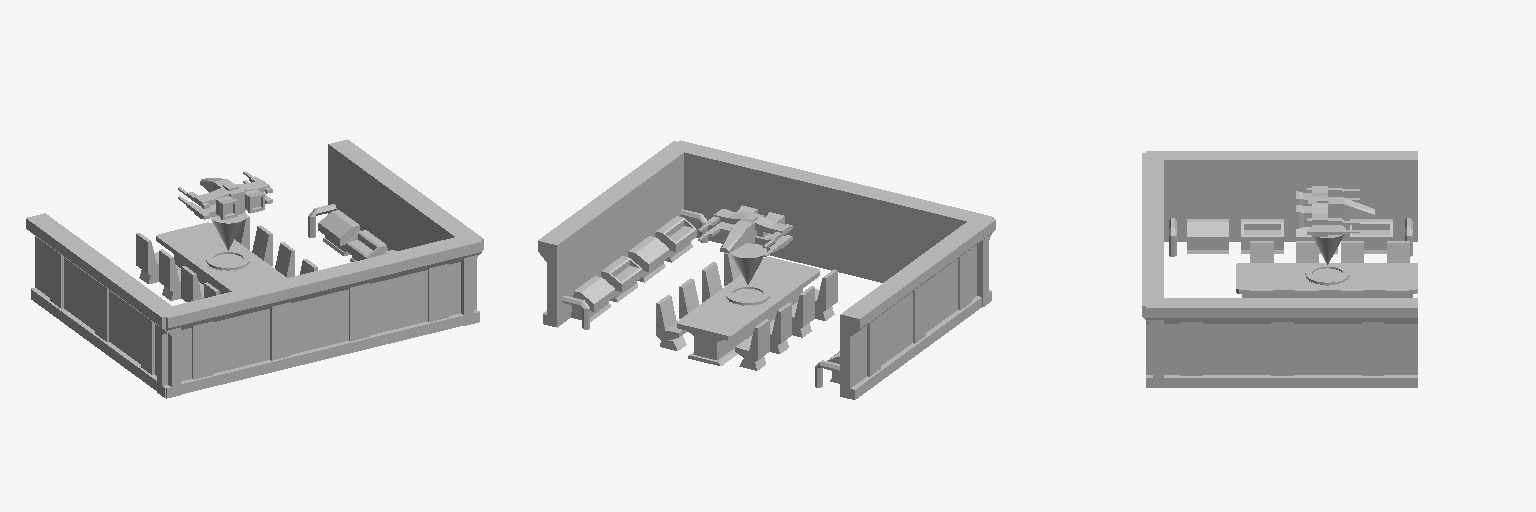
File: zona_0.obj
3 renders of one model, left to right at view 1: azimuth 30°, elevation 25°; view 2: azimuth 150°, elevation 25°; view 3: azimuth 270°, elevation 25°, orthographic.
Visible parts, largest first — view 1: mesh_125, mesh_174, mesh_161, mesh_187, mesh_193, mesh_223, mesh_94, mesh_191, mesh_162, mesh_183, mesh_201, mesh_229 (+14 smaller); view 2: mesh_161, mesh_174, mesh_223, mesh_193, mesh_187, mesh_201, mesh_125, mesh_191, mesh_189, mesh_229, mesh_94, mesh_211 (+15 smaller); view 3: mesh_94, mesh_201, mesh_229, mesh_191, mesh_193, mesh_189, mesh_223, mesh_192, mesh_194, mesh_190, mesh_187, mesh_184 (+8 smaller).
Boxes of the visible parts, x1,y1,x2,y2 form: mesh_125: [157, 291, 246, 397]; mesh_174: [314, 252, 403, 359]; mesh_161: [236, 272, 324, 378]; mesh_187: [393, 233, 481, 340]; mesh_193: [328, 139, 392, 234]; mesh_223: [157, 222, 286, 293]; mesh_94: [116, 280, 180, 398]; mesh_191: [374, 173, 437, 250]; mesh_162: [241, 296, 319, 366]; mesh_183: [320, 277, 397, 347]; mesh_201: [26, 213, 89, 331]; mesh_229: [71, 246, 135, 364]; mesh_161: [826, 179, 914, 282]; mesh_174: [747, 160, 836, 268]; mesh_223: [677, 257, 819, 365]; mesh_193: [538, 208, 602, 327]; mesh_187: [669, 140, 758, 243]; mesh_201: [840, 281, 904, 399]; mesh_125: [904, 198, 993, 306]; mesh_191: [583, 174, 647, 269]; mesh_189: [629, 141, 691, 236]; mesh_229: [887, 248, 950, 366]; mesh_94: [932, 219, 995, 332]; mesh_211: [850, 304, 895, 388]; mesh_94: [1146, 151, 1236, 241]; mesh_201: [1328, 151, 1417, 241]; mesh_229: [1237, 151, 1327, 241]; mesh_191: [1237, 298, 1327, 387]; mesh_193: [1328, 298, 1417, 387]; mesh_189: [1146, 298, 1236, 387]; mesh_223: [1236, 263, 1417, 297]; mesh_192: [1237, 324, 1327, 374]; mesh_194: [1328, 324, 1417, 374]; mesh_190: [1146, 324, 1236, 374]; mesh_187: [1142, 268, 1163, 387]; mesh_184: [1296, 188, 1374, 234].
Size of the model in its own units: 4.1 by 1.35 by 3.05.